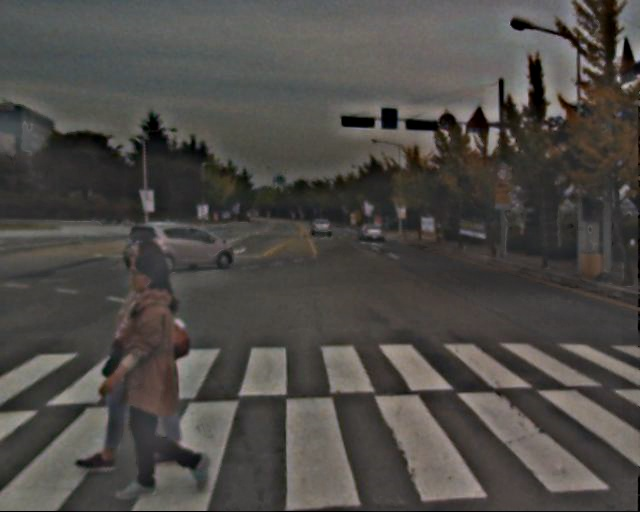person: (103, 259, 213, 492), (104, 239, 204, 460)
